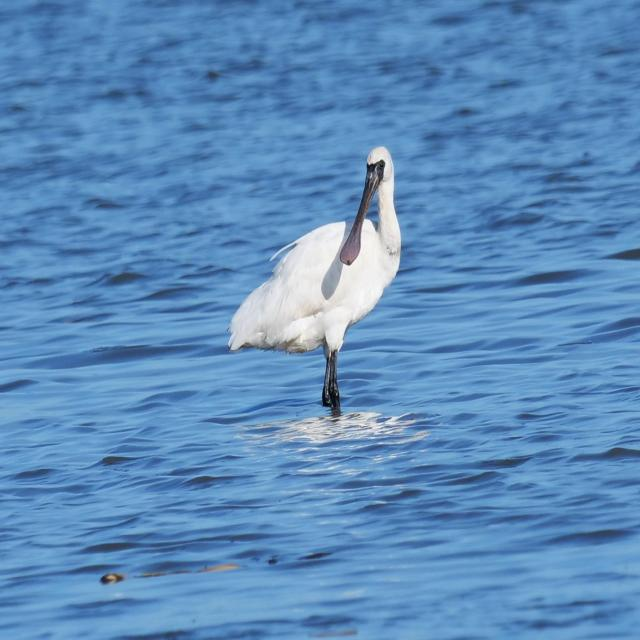Black-faced spoonbill: (229, 147, 400, 408)
